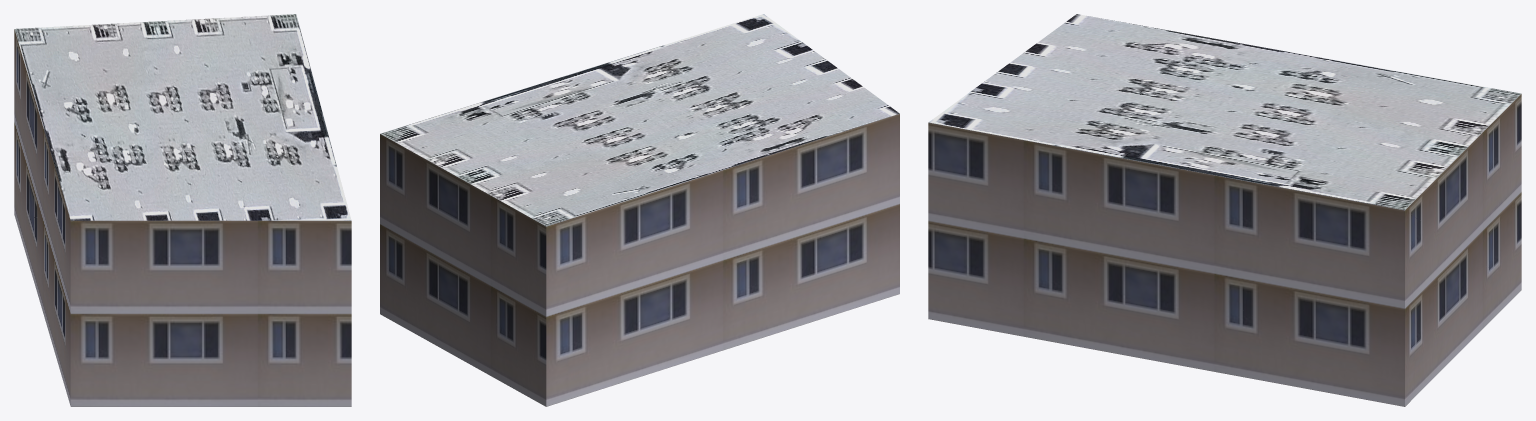
Rendered from ResTex__2838.fbx.
The picture shows the model from 3 angles, left to right: view 1: azimuth 30°, elevation 25°; view 2: azimuth 150°, elevation 25°; view 3: azimuth 270°, elevation 25°; orthographic projection. The views are drawn at different scales.
Visible parts, largest first — view 1: CityEngineMaterial_21_m, CityEngineMaterial_8_m; view 2: CityEngineMaterial_21_m, CityEngineMaterial_8_m; view 3: CityEngineMaterial_21_m, CityEngineMaterial_8_m.
Part boxes in pixels (x1,y1,x2,y2): CityEngineMaterial_21_m: (14,29,351,406); CityEngineMaterial_8_m: (14,14,351,220); CityEngineMaterial_21_m: (380,113,899,406); CityEngineMaterial_8_m: (380,14,899,226); CityEngineMaterial_21_m: (928,94,1521,406); CityEngineMaterial_8_m: (929,14,1521,210).
Bounding box in the file's own units: 12.84 × 6 × 16.4.
Materials: 2 (2 with a texture image).
